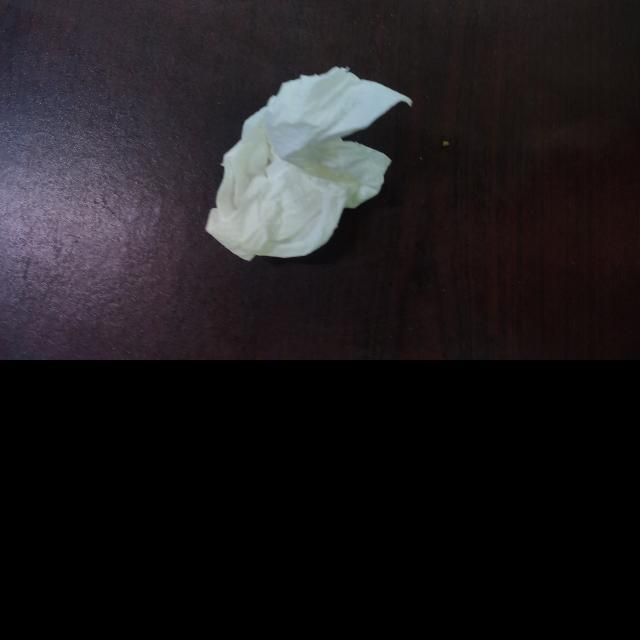kitchen paper: (199, 62, 419, 264)
